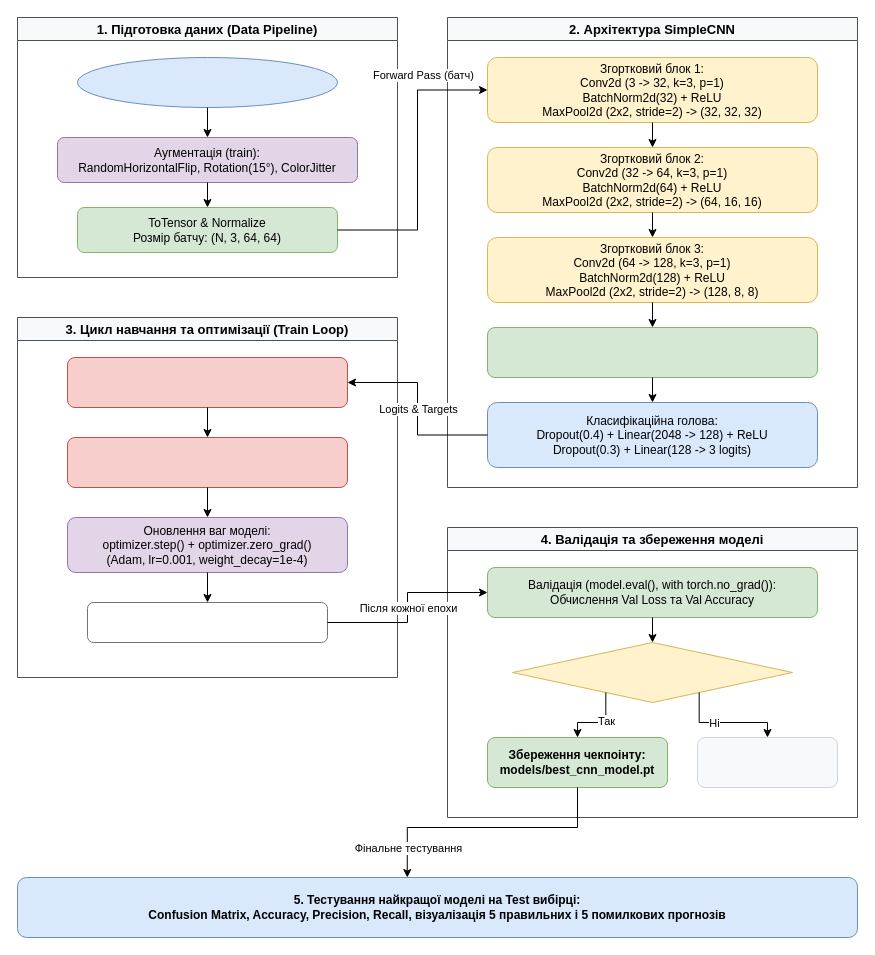
Image size: 875x955. Some labels were removed from this diagram. The centre of each missing label's shape, as x and y in pixels:
Val Accuracy > Best Val Accuracy?: point (652, 672)
Адаптивний пулінг: AdaptiveAvgPool2d((4, 4)) -> Flatten (2048): point (652, 352)
Вхідні зображення датасету (dataset_split.json): point (207, 82)
Зворотне поширення помилки: loss.backward() (Autograd): point (207, 462)
Обчислення втрат: CrossEntropyLoss(logits, targets): point (207, 382)
Перехід до наступного батчу: point (207, 622)
Пропуск збереження: point (767, 762)
